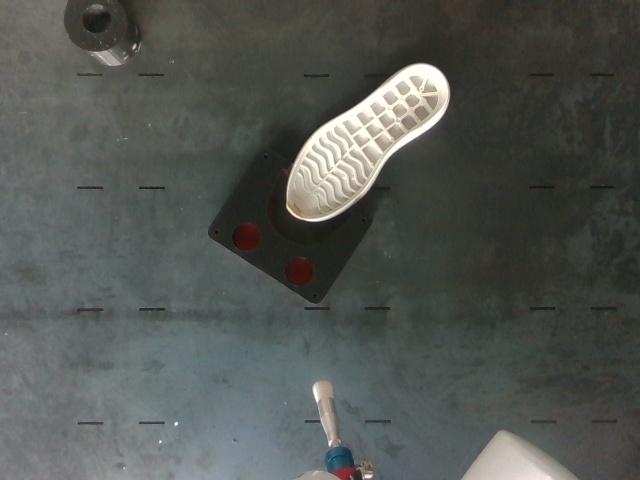shoes: (287, 65, 448, 220)
